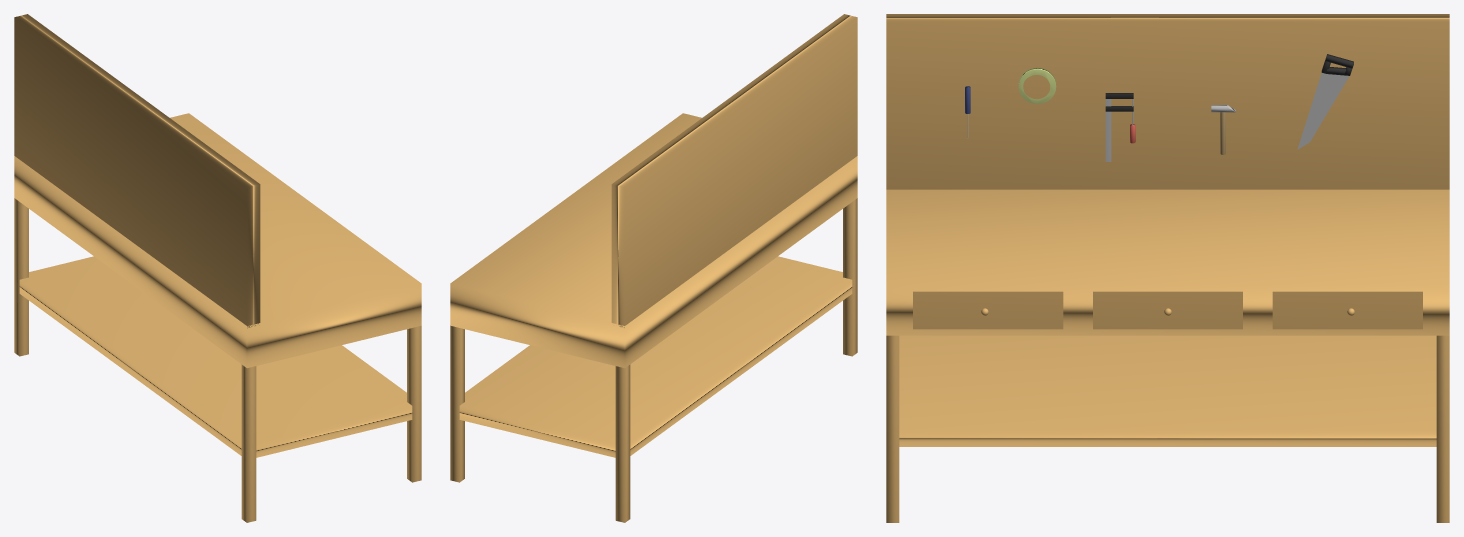
Rendered from Workbench.fbx.
The picture shows the model from 3 angles, left to right: view 1: azimuth 30°, elevation 25°; view 2: azimuth 150°, elevation 25°; view 3: azimuth 270°, elevation 25°; orthographic projection. The views are drawn at different scales.
Parts seen in each view (by area): view 1: Cube.002, Cube, Cube.001, Cube.003, Cube.004, Cube.006; view 2: Cube.002, Cube, Cube.001, Cube.006, Cube.005, Cube.003; view 3: Cube.002, Cube, Cube.001, Cube.007, Cube.009, Cube.008, Cube.004, Cube.005, Plane.
Boxes of the visible parts, x1,y1,x2,y2 form: Cube.002: (14,14,260,328); Cube: (14,113,421,368); Cube.001: (19,256,412,457); Cube.003: (241,364,256,522); Cube.004: (407,325,421,482); Cube.006: (14,198,28,356); Cube.002: (611,14,857,327); Cube: (450,113,857,368); Cube.001: (459,256,852,457); Cube.006: (615,364,630,522); Cube.005: (450,325,464,482); Cube.003: (843,198,857,356); Cube.002: (886,14,1449,189); Cube: (886,189,1449,335); Cube.001: (899,335,1436,446); Cube.007: (913,291,1063,329); Cube.009: (1272,291,1422,329); Cube.008: (1093,291,1242,329); Cube.004: (886,335,899,522); Cube.005: (1436,335,1449,522); Plane: (1297,73,1349,149).
Bounding box in the file's own units: 134 × 238 × 300.
